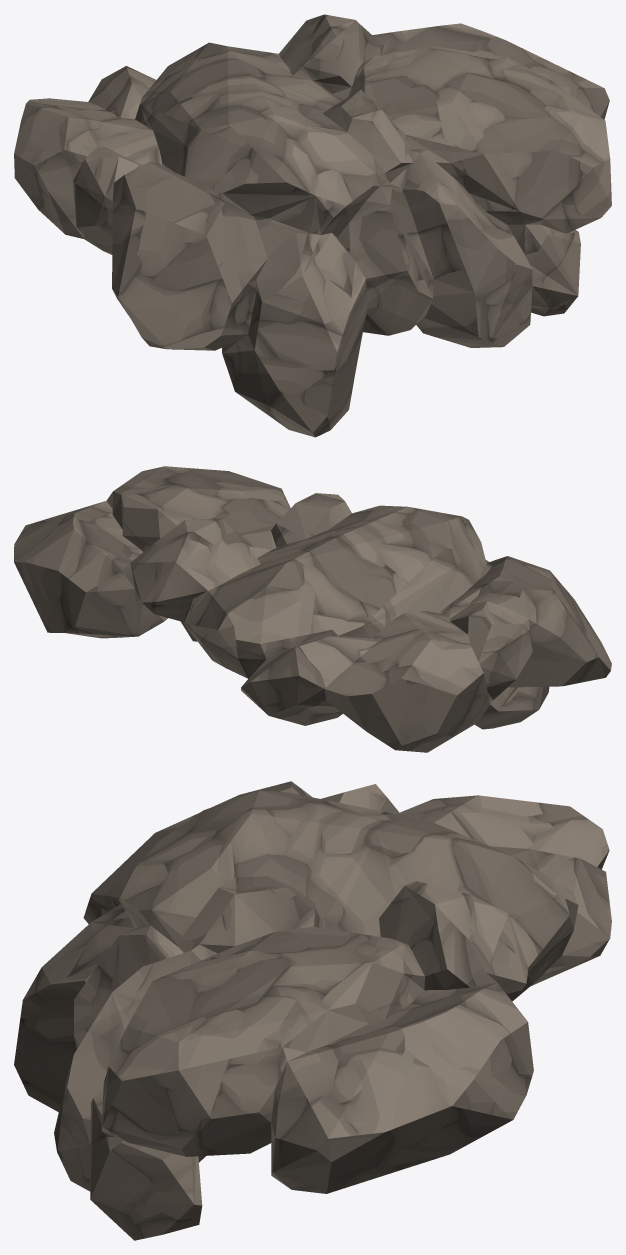
Rendered from source.gltf.
3 views of the same model, one above another, from view 1: azimuth 30°, elevation 25°; view 2: azimuth 150°, elevation 25°; view 3: azimuth 270°, elevation 25° (orthographic). The views are drawn at different scales.
Visible parts, largest first — view 1: SM_Rock_Pile_Curved_02; view 2: SM_Rock_Pile_Curved_02; view 3: SM_Rock_Pile_Curved_02.
Part boxes in pixels (x1=…): SM_Rock_Pile_Curved_02: x1=14, y1=14, x2=611, y2=437; SM_Rock_Pile_Curved_02: x1=14, y1=466, x2=611, y2=752; SM_Rock_Pile_Curved_02: x1=14, y1=781, x2=611, y2=1240.
Size of the model in its own units: 5.05 by 2.44 by 3.9.
Materials: 1 (1 with a texture image).
